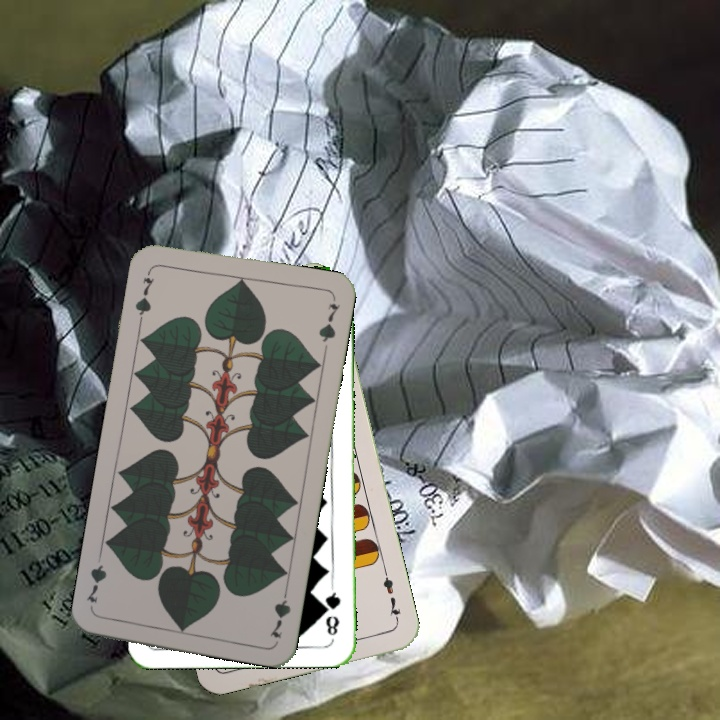E7: (378, 567, 403, 626)
G7: (265, 583, 294, 641), (131, 266, 157, 324)
G8: (321, 582, 343, 639)
